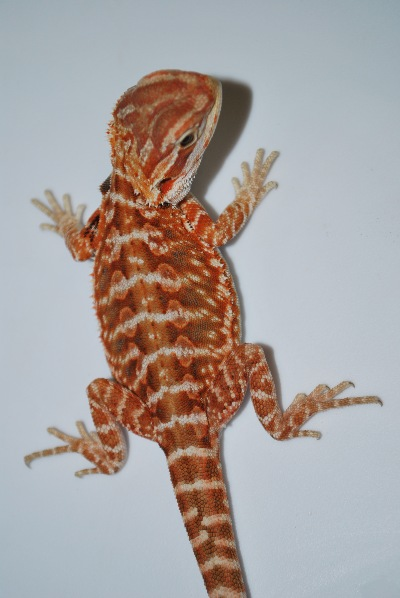bearded: (23, 68, 385, 598)
